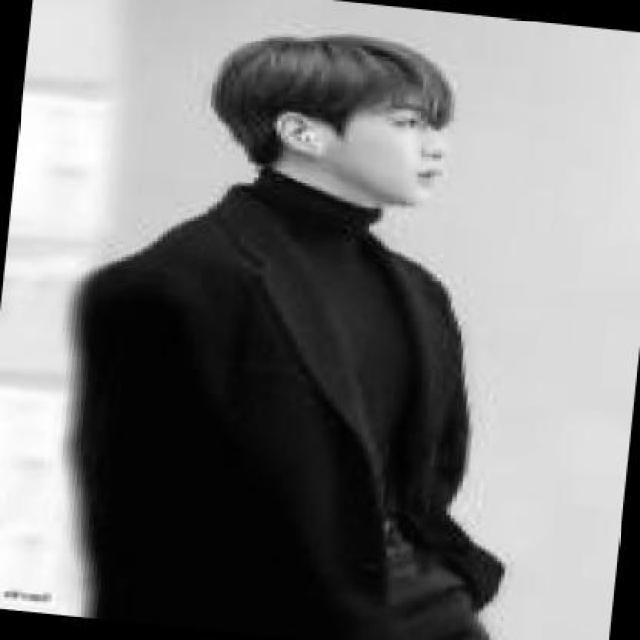earphone: (293, 127, 329, 149)
